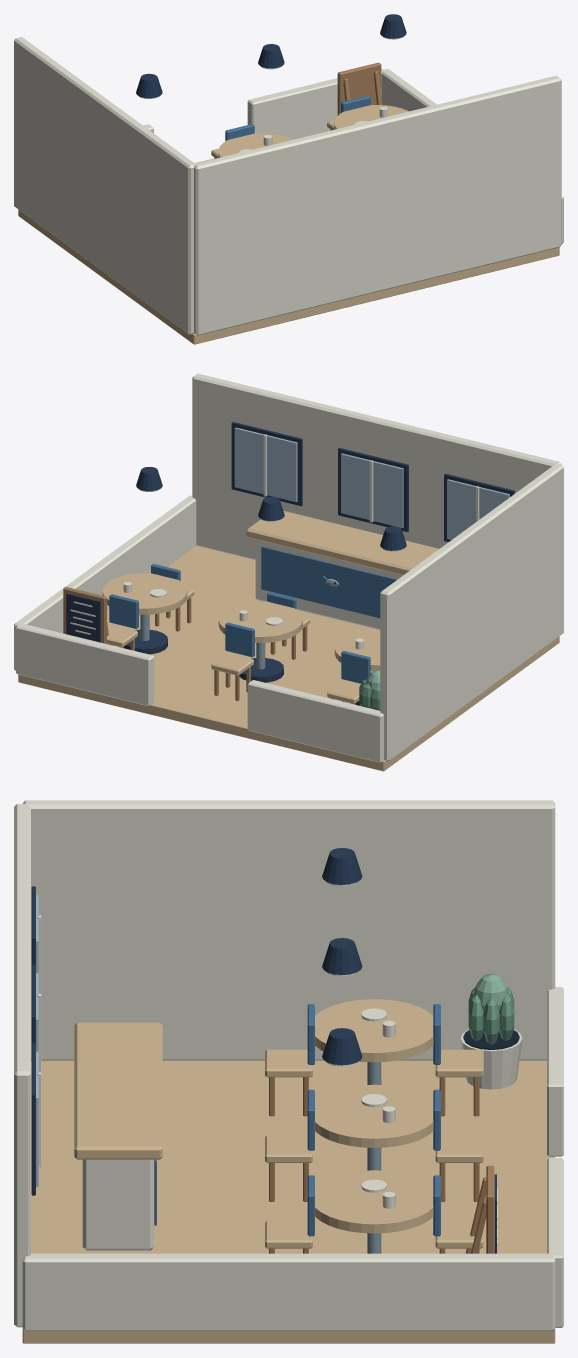
The model's file is restaurant_cutaway.glb.
The picture shows the model from 3 angles, top to bottom: view 1: azimuth 30°, elevation 25°; view 2: azimuth 150°, elevation 25°; view 3: azimuth 270°, elevation 25°; orthographic projection. The views are drawn at different scales.
Parts seen in each view (by area): view 1: back_wall, left_wall, floor, front_cutaway_wall, dining_top (×2), pendant (×3), right_cutaway_wall, board; view 2: left_wall, back_wall, floor, front_cutaway_wall (×2), window_glass (×3), right_cutaway_wall, dining_top (×3), countertop, panel, window_frame (×3), dining_back (×3), base (+5 smaller); view 3: left_wall, floor, right_cutaway_wall, dining_top (×3), countertop, back_wall, dining_seat (×6), base, front_cutaway_wall (×2), pendant (×3), pot, leaf_top (+2 smaller).
Part boxes in pixels (x1,y1,x2,y2): back_wall: (194,75,561,335); left_wall: (14,37,195,334); floor: (18,158,559,344); front_cutaway_wall: (247,68,383,139); dining_top (×2): (218,105,408,157); pendant (×3): (136,14,406,98); right_cutaway_wall: (381,68,563,243); board: (337,62,381,115); left_wall: (380,463,563,761); back_wall: (192,373,561,559); floor: (18,545,559,771); front_cutaway_wall (×2): (16,623,383,762); window_glass (×3): (234,427,509,539); right_cutaway_wall: (14,495,196,670); dining_top (×3): (102,573,380,671); countertop: (246,511,438,575); panel: (261,546,397,618); window_frame (×3): (231,422,514,541); dining_back (×3): (109,594,370,683); base: (255,539,402,629); left_wall: (22,800,555,1060); floor: (22,1060,555,1343); right_cutaway_wall: (22,1253,555,1331); dining_top (×3): (314,999,433,1233); countertop: (74,1022,162,1159); back_wall: (14,804,30,1327); dining_seat (×6): (265,1049,483,1248); base: (82,1159,153,1250); front_cutaway_wall (×2): (547,987,563,1327); pendant (×3): (322,848,362,1065); pot: (460,1029,522,1089); leaf_top: (473,973,509,1011).
Size of the model in its own units: 6.16 by 2.81 by 5.16.
